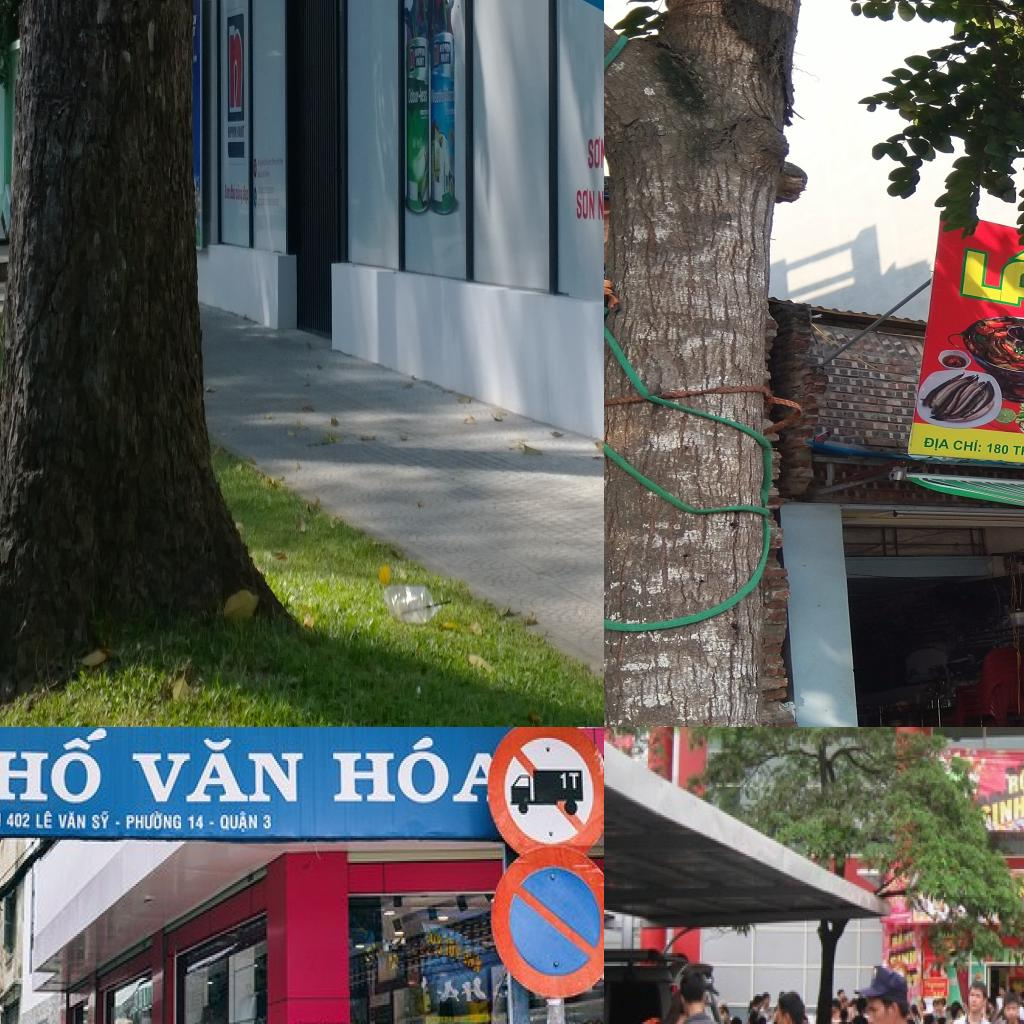text: (130, 734, 308, 805), (0, 728, 112, 807), (328, 738, 456, 803), (956, 231, 1024, 320), (434, 972, 490, 1009), (125, 807, 183, 830), (991, 793, 1024, 830), (218, 809, 260, 836), (1005, 761, 1024, 802), (575, 186, 596, 223), (585, 133, 604, 170), (57, 811, 86, 832), (922, 435, 953, 453), (558, 770, 583, 792), (950, 438, 984, 454), (35, 807, 55, 832), (430, 86, 456, 105), (6, 811, 32, 830), (91, 809, 111, 832), (984, 441, 1010, 457), (186, 813, 206, 832), (597, 185, 604, 229), (1009, 441, 1024, 457), (406, 86, 418, 105), (420, 85, 428, 104), (415, 57, 425, 68)
